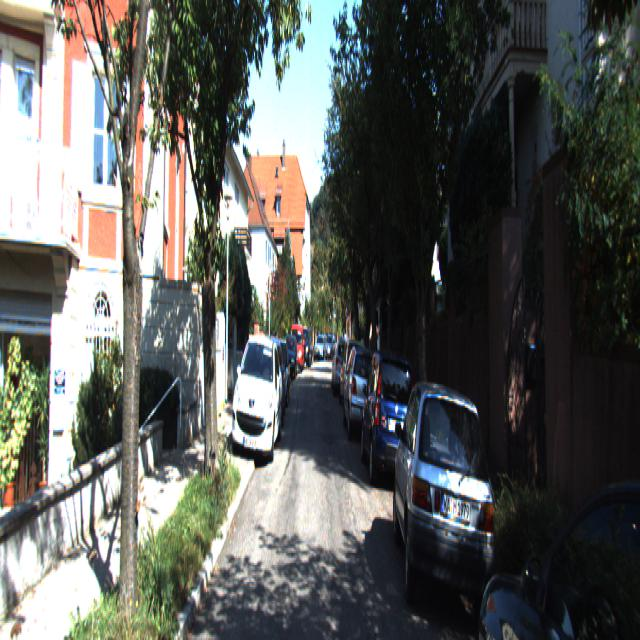Car: (459, 384, 640, 638), (393, 358, 500, 638), (362, 340, 418, 502), (232, 328, 282, 474), (344, 340, 384, 450), (337, 336, 367, 416), (331, 336, 354, 403), (290, 324, 305, 376)
